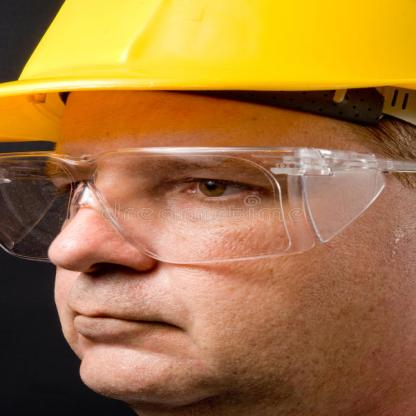oculos: (1, 151, 393, 262)
